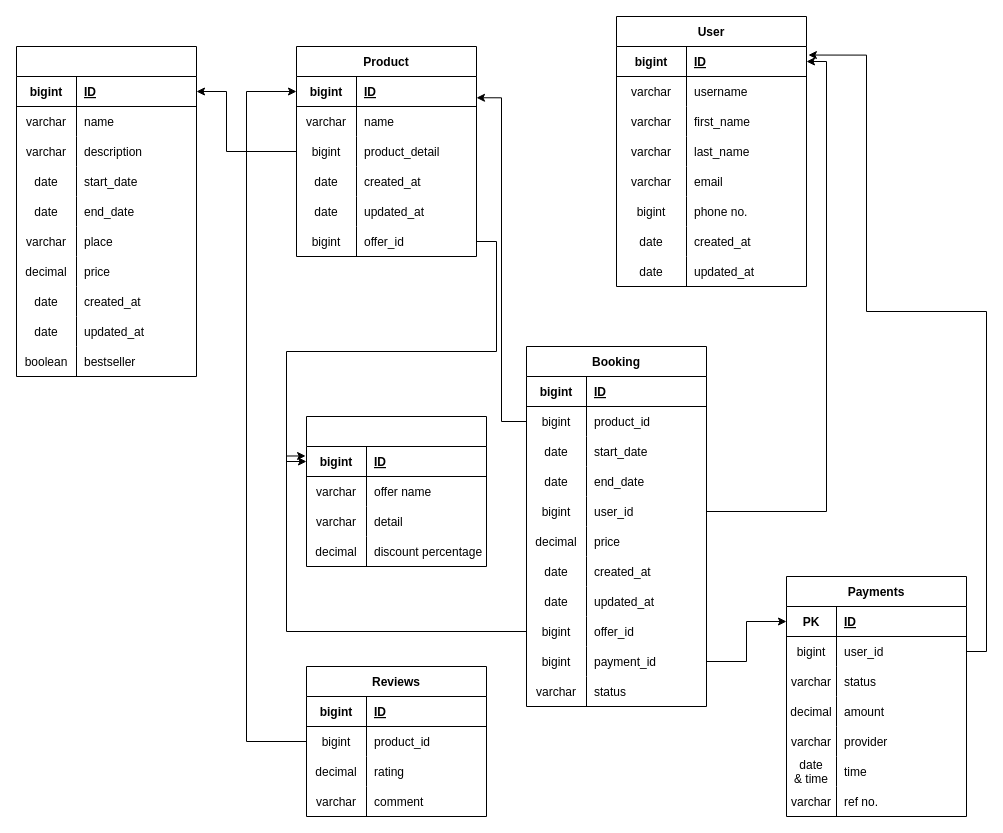
Image size: 1003x833. Some labels were removed from this diagram. The box of each missing label's shape, as (x1, y1, x2, y2) in pixels:
Offers: (306, 416, 486, 566)
Product Detail: (16, 46, 196, 376)
